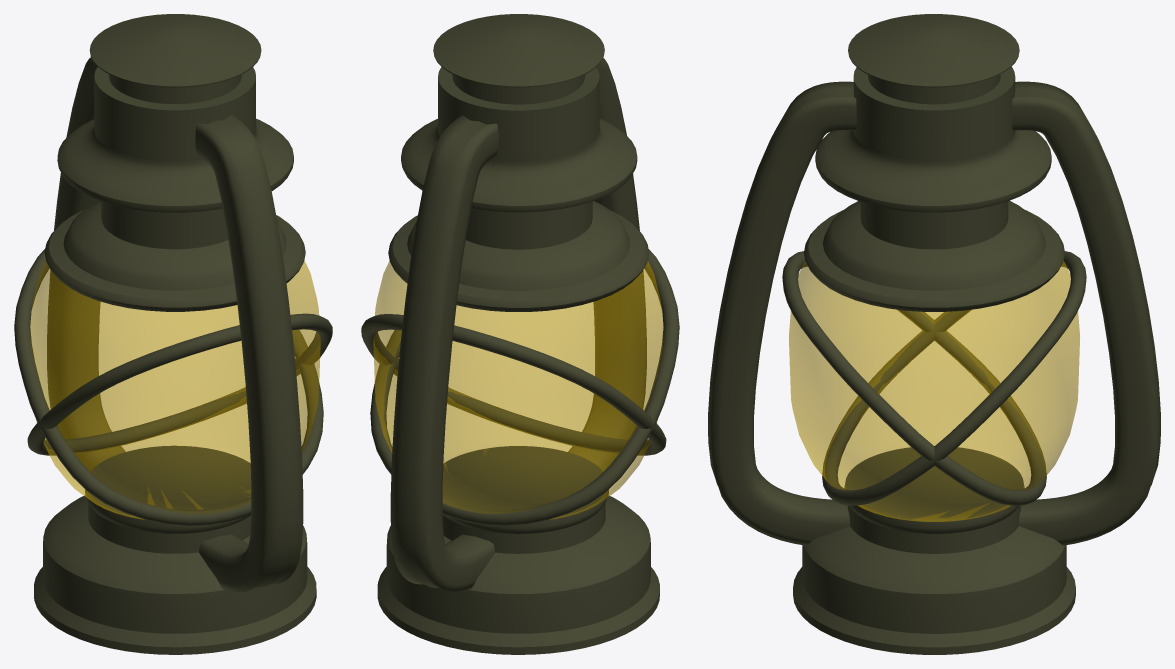
File: farol.fbx
3 renders of one model, left to right at view 1: azimuth 30°, elevation 25°; view 2: azimuth 150°, elevation 25°; view 3: azimuth 270°, elevation 25°, orthographic.
Parts seen in each view (by area): view 1: Sphere.001, Sphere, Cylinder, BézierCurve, Torus; view 2: Sphere.001, Sphere, Cylinder, BézierCurve, Torus; view 3: Sphere.001, BézierCurve, Sphere, Cylinder, Torus.
Boxes of the visible parts, <box> form: Sphere.001: <box>44,14,305,311</box>; Sphere: <box>30,261,320,519</box>; Cylinder: <box>34,445,316,654</box>; BézierCurve: <box>47,57,303,592</box>; Torus: <box>14,248,332,525</box>; Sphere.001: <box>388,14,649,311</box>; Sphere: <box>373,261,663,519</box>; Cylinder: <box>377,446,659,654</box>; BézierCurve: <box>390,58,646,592</box>; Torus: <box>361,249,679,526</box>; Sphere.001: <box>804,14,1064,311</box>; BézierCurve: <box>708,81,1160,545</box>; Sphere: <box>789,261,1079,521</box>; Cylinder: <box>793,447,1075,654</box>; Torus: <box>782,251,1086,505</box>.
Size of the model in its own units: 238 by 470 by 342.
